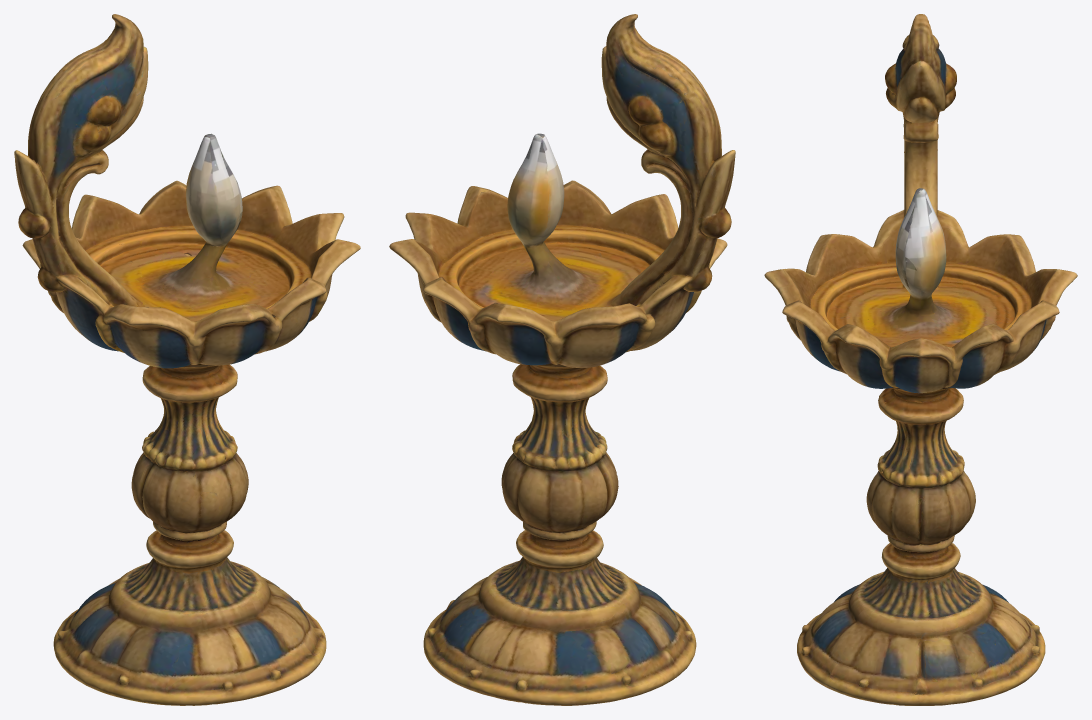
Rendered from original-diya.glb.
3 renders of one model, left to right at view 1: azimuth 30°, elevation 25°; view 2: azimuth 150°, elevation 25°; view 3: azimuth 270°, elevation 25°, orthographic. The views are drawn at different scales.
Parts seen in each view (by area): view 1: world; view 2: world; view 3: world.
Part boxes in pixels (x1,y1,x2,y2): world: [14, 14, 360, 705]; world: [389, 14, 735, 705]; world: [764, 14, 1077, 705].
Size of the model in its own units: 0.5283 by 1 by 0.4696.
Materials: 1 (1 with a texture image).
